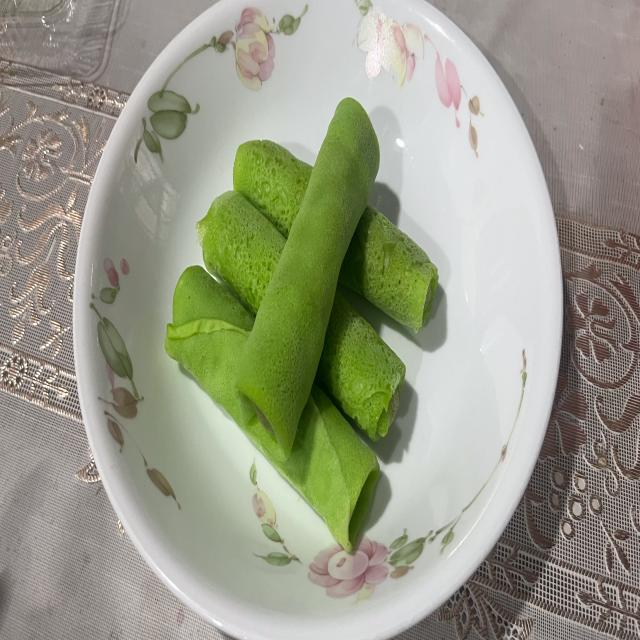Kuih-Ketayap: (165, 267, 379, 551), (236, 98, 380, 458), (316, 291, 405, 440), (339, 204, 439, 331), (196, 191, 285, 316), (234, 140, 311, 238)
